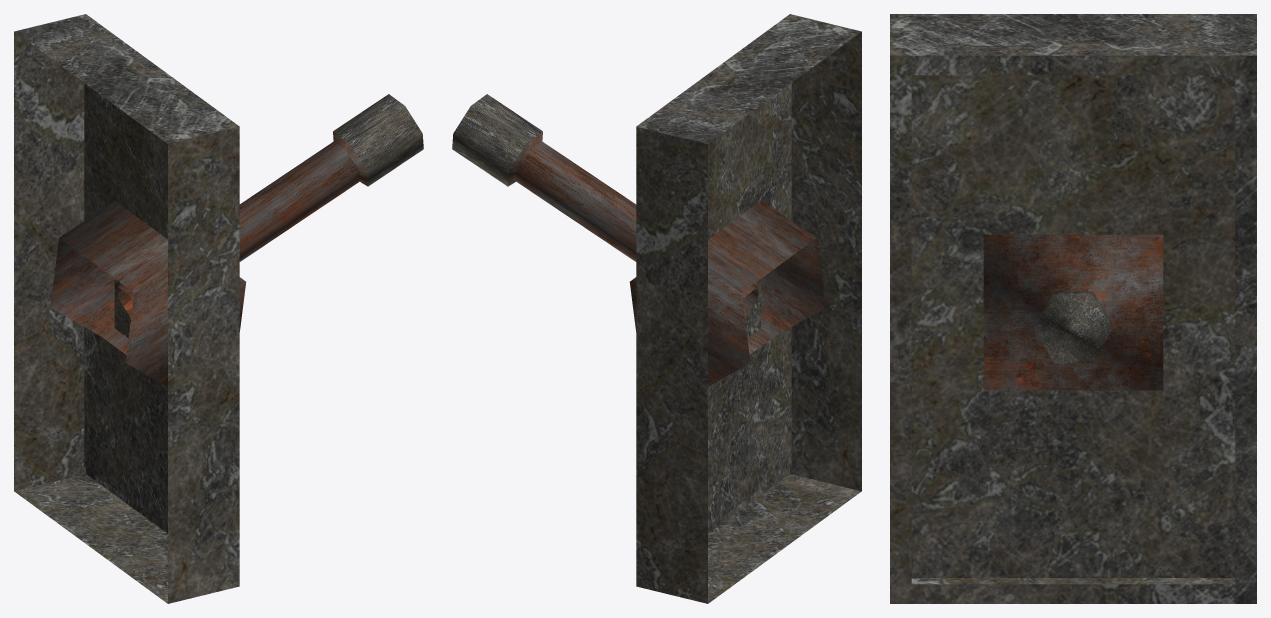
Rendered from lever_anim5.obj.
3 renders of one model, left to right at view 1: azimuth 30°, elevation 25°; view 2: azimuth 150°, elevation 25°; view 3: azimuth 270°, elevation 25°, orthographic. The views are drawn at different scales.
Visible parts, largest first — view 1: Cube, Cylinder; view 2: Cube, Cylinder; view 3: Cube, Cylinder.
Boxes of the visible parts, x1=… form: Cube: x1=14, y1=14, x2=239, y2=603; Cylinder: x1=50, y1=94, x2=423, y2=386; Cube: x1=636, y1=14, x2=861, y2=603; Cylinder: x1=452, y1=94, x2=825, y2=386; Cube: x1=890, y1=14, x2=1256, y2=603; Cylinder: x1=983, y1=234, x2=1163, y2=390.
Bounding box in the file's own units: 1.49 × 2 × 1.21.
2 materials, 2 textured.
